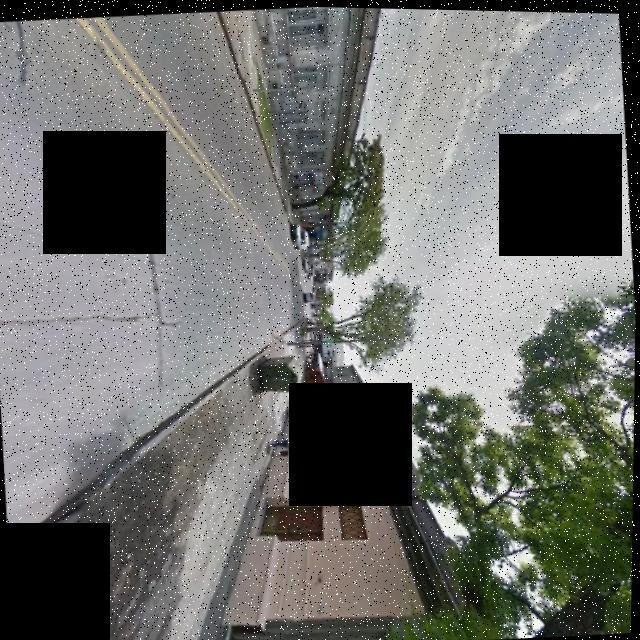bin: (245, 348, 307, 399)
